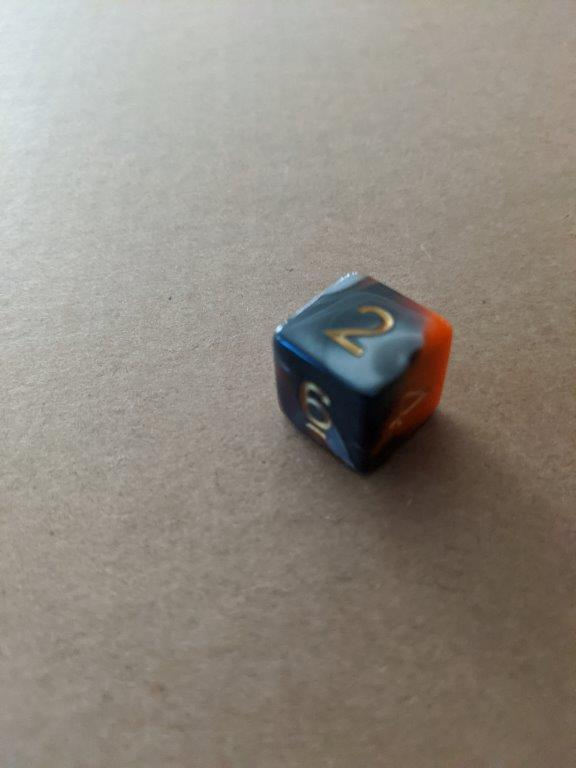d6-2: (273, 265, 456, 478)
